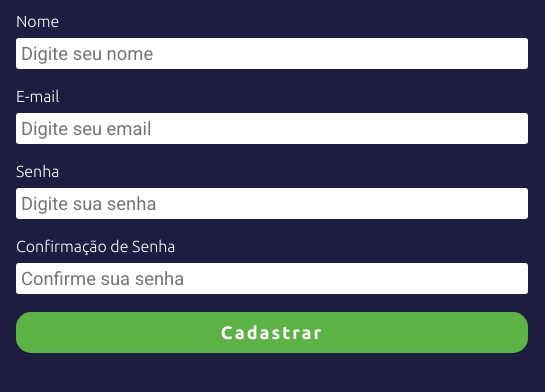
Test: Testing Register Form › Should email be invalid
Type "Ines Zistente" into the field with placeholder "Digite seu nome" at (272, 54), box [16,38,528,69]
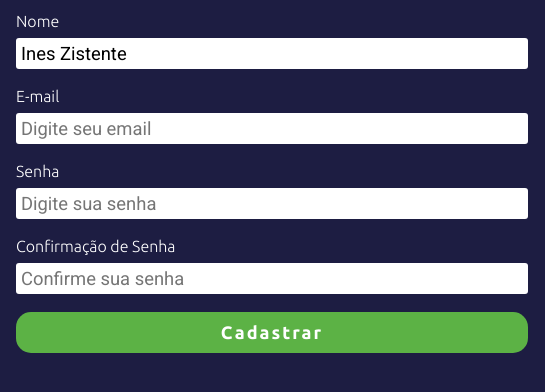
Type "outra coisa" into the field with placeholder "Digite seu email" at (272, 128), box [16,113,528,144]
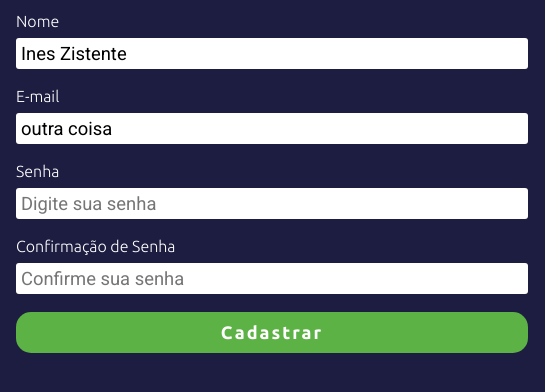
Type "123456" into the password field with placeholder "Digite sua senha" at (272, 204), box [16,188,528,219]
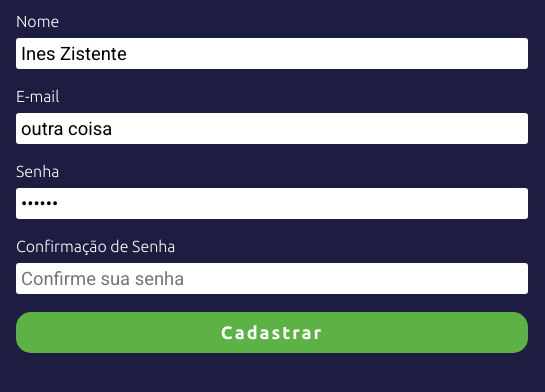
Type "123456" into the password field with placeholder "Confirme sua senha" at (272, 278), box [16,263,528,294]
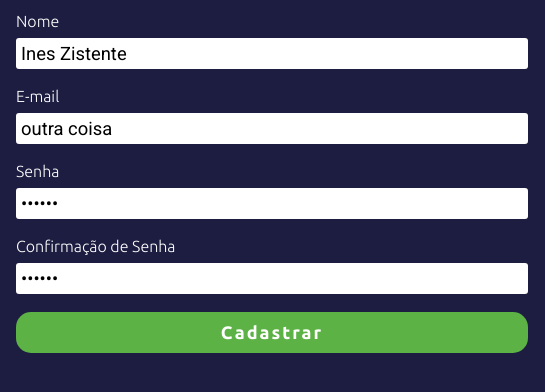
Click the button at (272, 332), box [16,312,528,353]
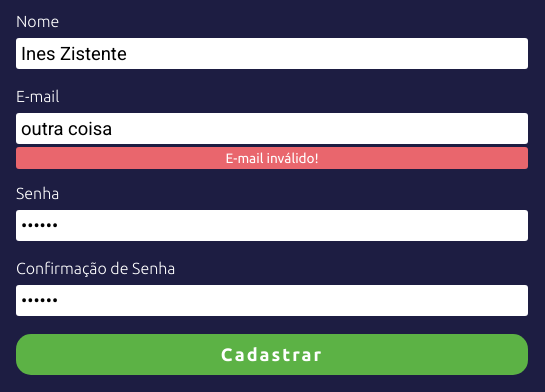
Expected: the text "E-mail inválido!" is shown, [16,147,528,169]
